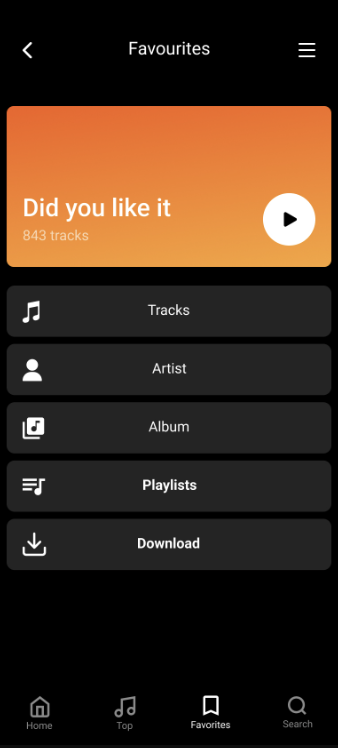BottomBar: (1, 690, 338, 748)
